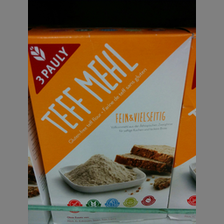flour: (28, 26, 193, 222)
